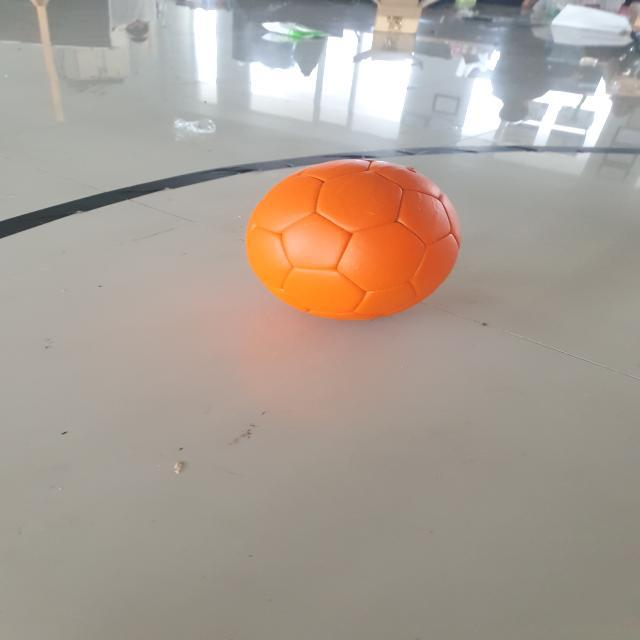bola: (234, 154, 472, 324)
